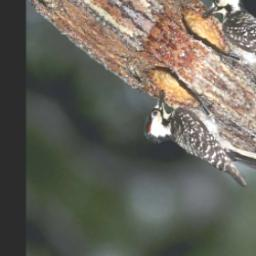Woodpecker: (134, 67, 256, 225)
